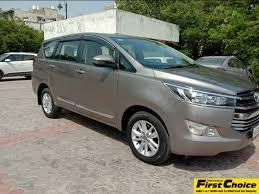Normal Automobiles: (32, 33, 258, 163), (196, 56, 250, 76), (0, 52, 36, 79)
